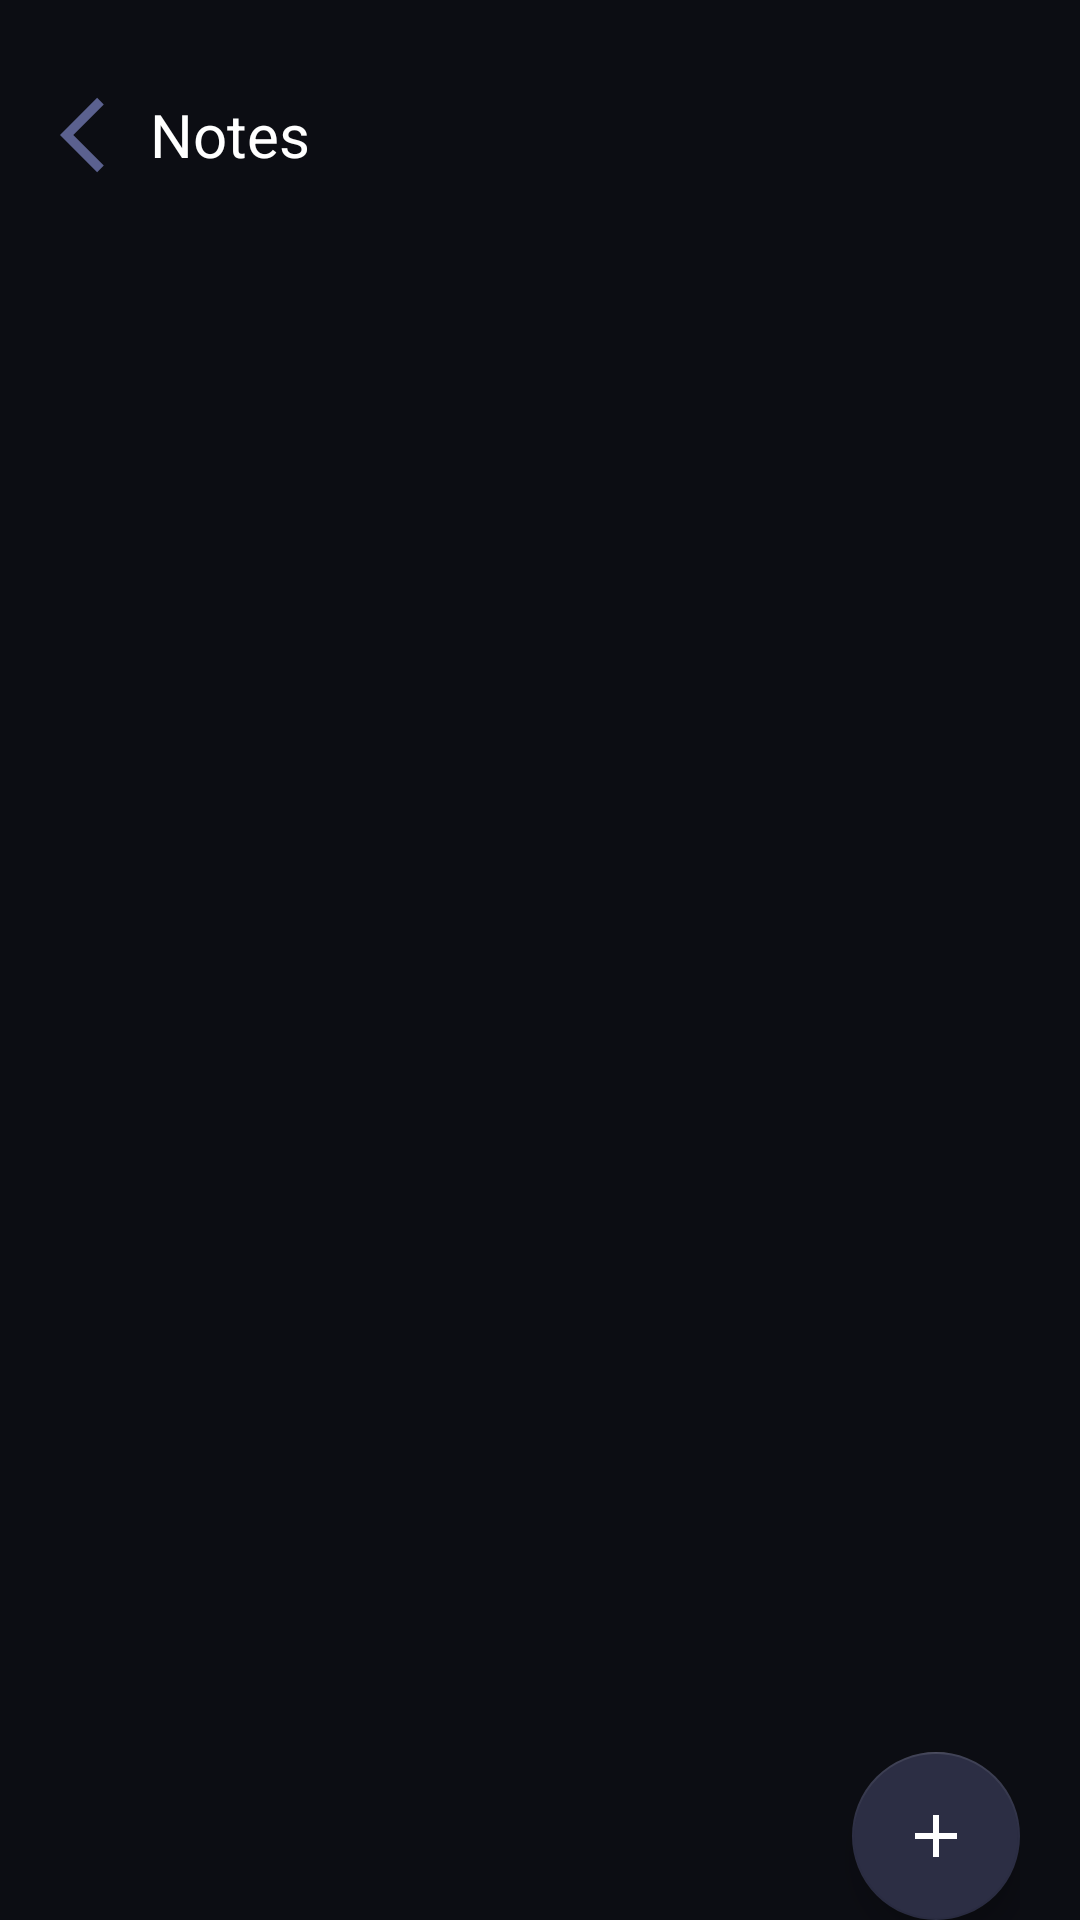

Named icons in this screenshot (1080*1920) and their bounding boxes, (x1, y1, x2, y2):
add: (852, 1752, 1020, 1920)
arrow back: (60, 98, 104, 172)
